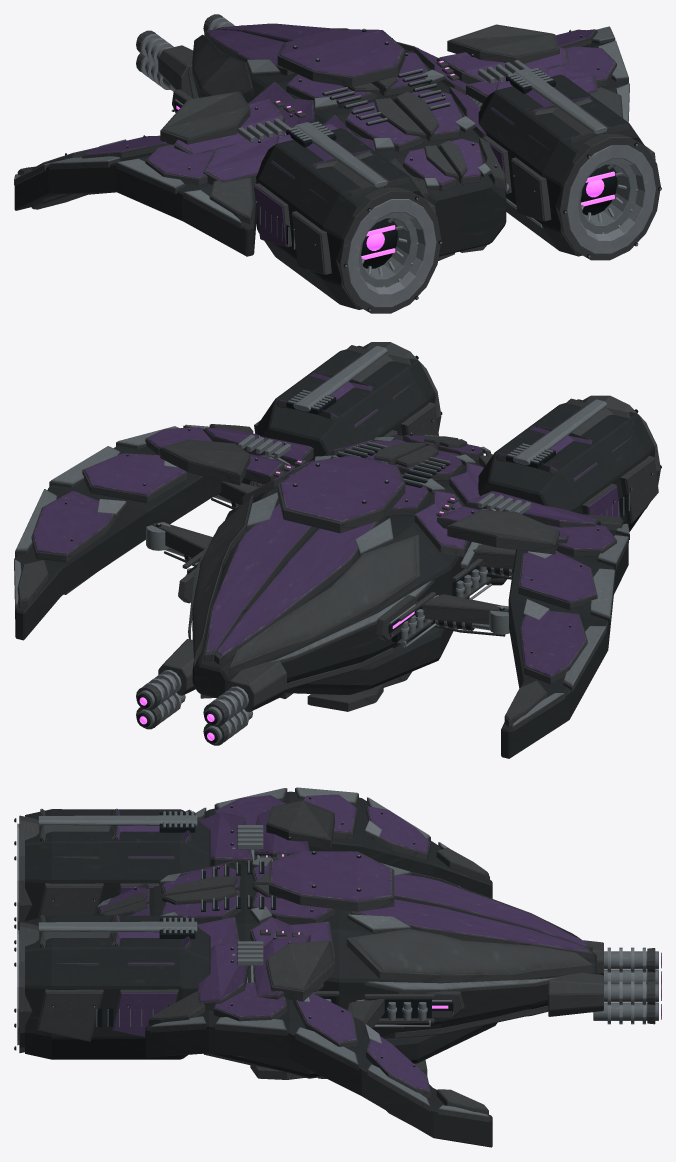
Rendered from heavy.glb.
The picture shows the model from 3 angles, top to bottom: view 1: azimuth 30°, elevation 25°; view 2: azimuth 150°, elevation 25°; view 3: azimuth 270°, elevation 25°; orthographic projection.
Visible parts, largest first — view 1: Heavy.001; view 2: Heavy.001; view 3: Heavy.001.
Boxes of the visible parts, bbox=[...] form: Heavy.001: bbox=[14, 14, 661, 313]; Heavy.001: bbox=[14, 342, 661, 758]; Heavy.001: bbox=[14, 787, 661, 1147].
Bounding box in the file's own units: 9.3 × 2.99 × 9.34.
7 materials, 7 textured.
